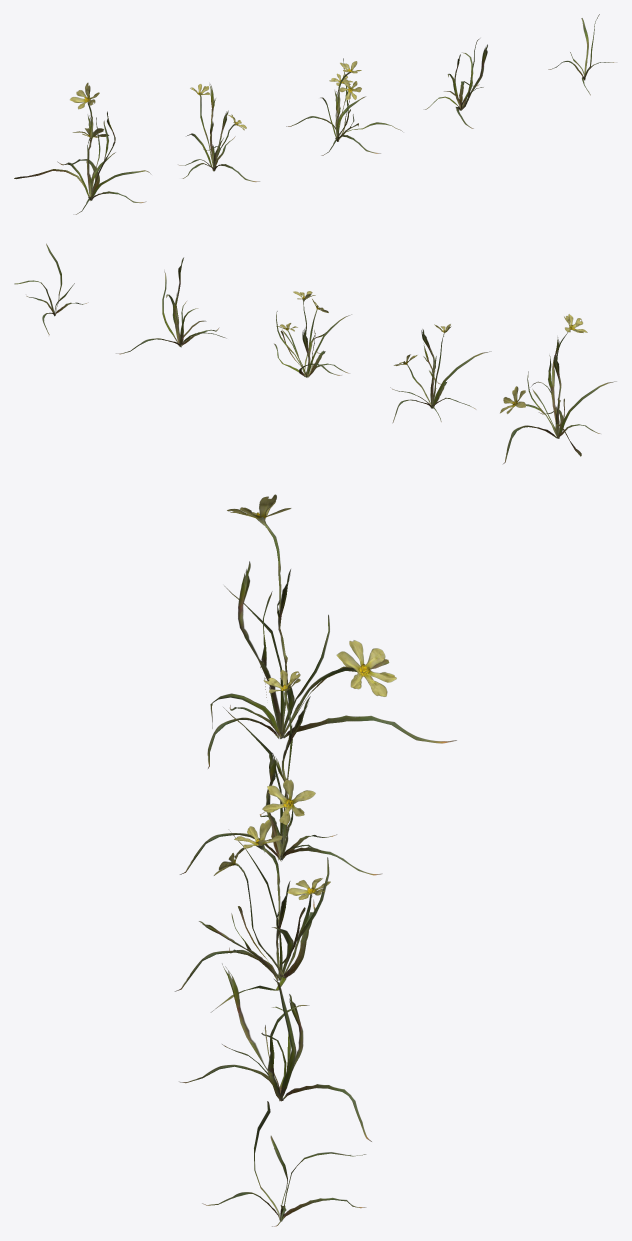
The model's file is polyhaven-flower-empodium.glb.
The picture shows the model from 3 angles, top to bottom: view 1: azimuth 30°, elevation 25°; view 2: azimuth 150°, elevation 25°; view 3: azimuth 270°, elevation 25°; orthographic projection. The views are drawn at different scales.
Parts seen in each view (by area): view 1: flower_empodium_a_LOD0_0, flower_empodium_c_LOD0_0, flower_empodium_b_LOD0_0, flower_empodium_d_LOD0_0, flower_empodium_e_LOD0_0; view 2: flower_empodium_a_LOD0_0, flower_empodium_c_LOD0_0, flower_empodium_b_LOD0_0, flower_empodium_d_LOD0_0, flower_empodium_e_LOD0_0; view 3: flower_empodium_a_LOD0_0, flower_empodium_c_LOD0_0, flower_empodium_b_LOD0_0, flower_empodium_d_LOD0_0, flower_empodium_e_LOD0_0.
Boxes of the visible parts, <box> form: flower_empodium_a_LOD0_0: <box>14,82,151,214</box>; flower_empodium_c_LOD0_0: <box>286,58,402,155</box>; flower_empodium_b_LOD0_0: <box>179,84,259,181</box>; flower_empodium_d_LOD0_0: <box>424,38,487,128</box>; flower_empodium_e_LOD0_0: <box>548,14,616,95</box>; flower_empodium_a_LOD0_0: <box>500,314,616,463</box>; flower_empodium_c_LOD0_0: <box>274,291,351,377</box>; flower_empodium_b_LOD0_0: <box>390,324,491,423</box>; flower_empodium_d_LOD0_0: <box>116,257,226,354</box>; flower_empodium_e_LOD0_0: <box>14,243,88,335</box>; flower_empodium_a_LOD0_0: <box>207,494,456,768</box>; flower_empodium_c_LOD0_0: <box>175,819,330,1012</box>; flower_empodium_b_LOD0_0: <box>180,669,382,875</box>; flower_empodium_d_LOD0_0: <box>179,963,371,1141</box>; flower_empodium_e_LOD0_0: <box>202,1101,366,1226</box>.
Size of the model in its own units: 1.32 by 0.2684 by 0.2841.
1 material, 1 textured.
